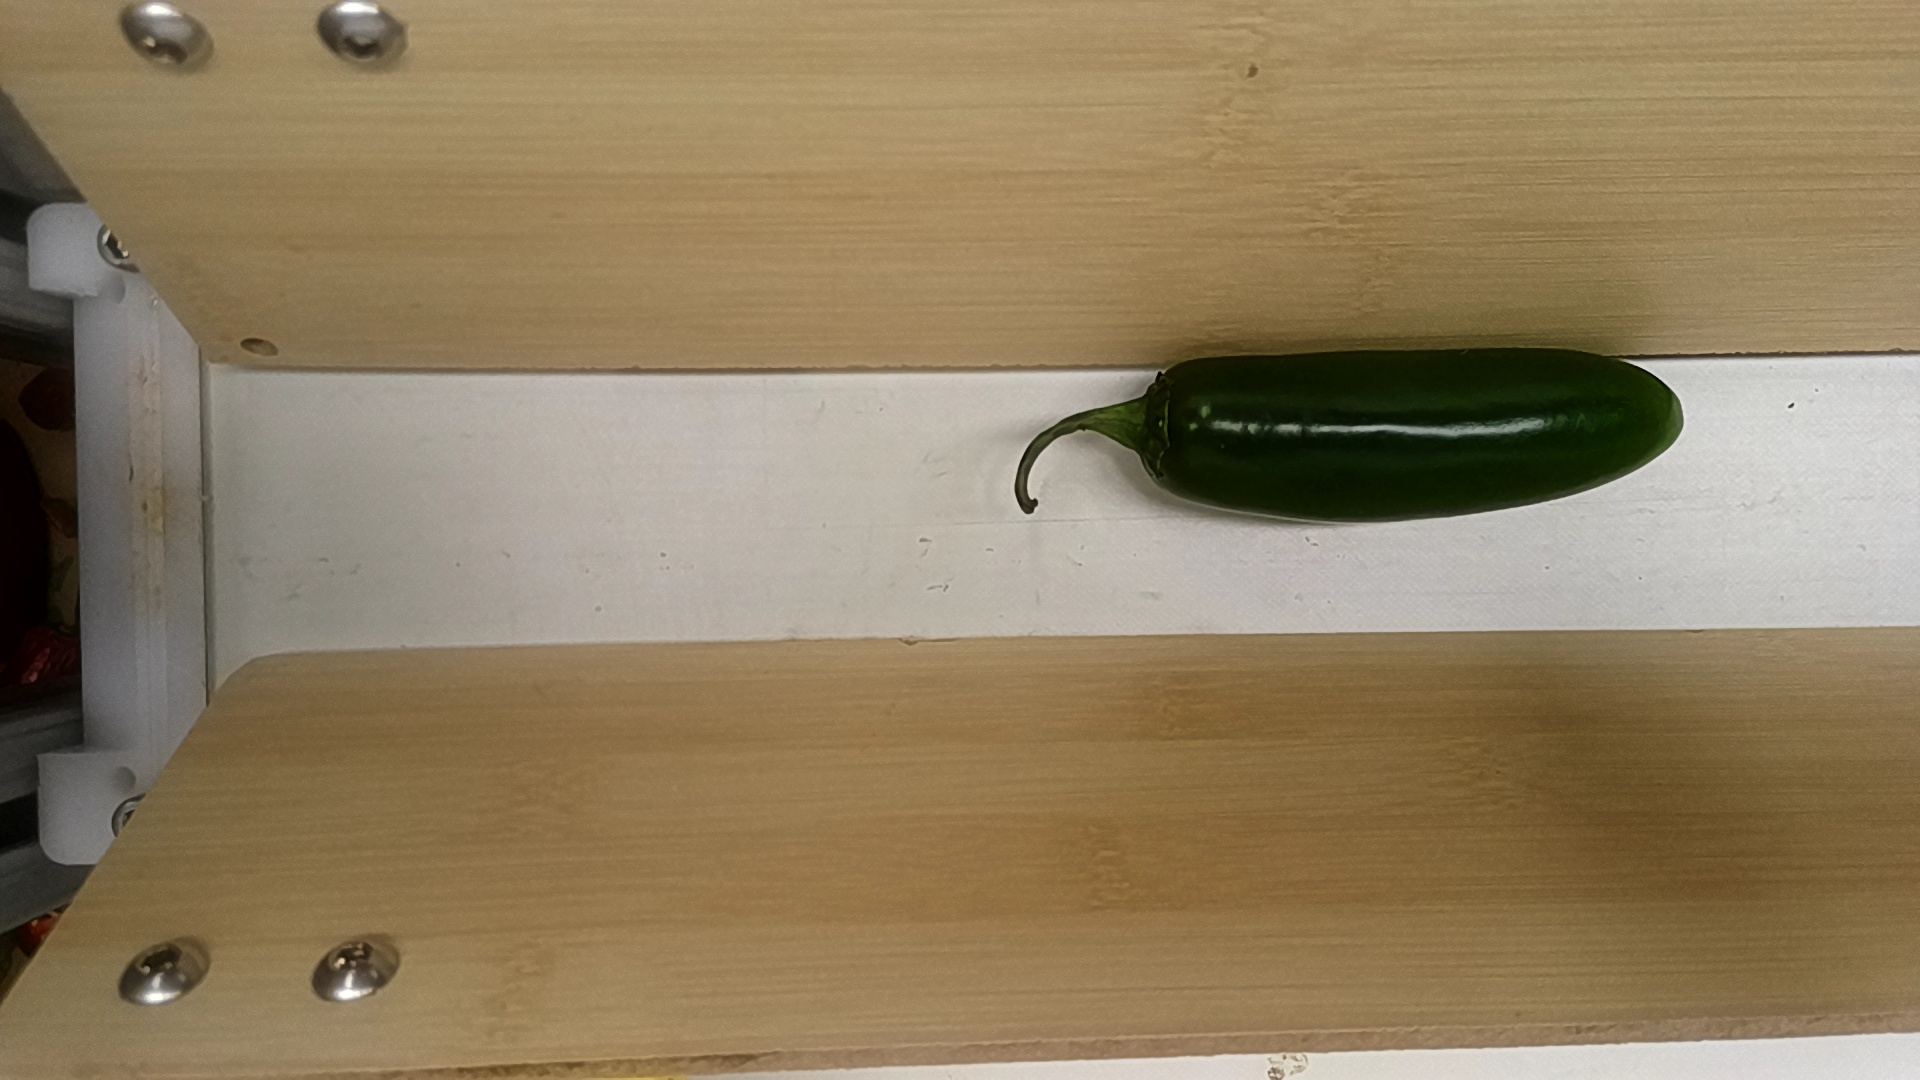Cut Point: (1129, 348, 1207, 512)
